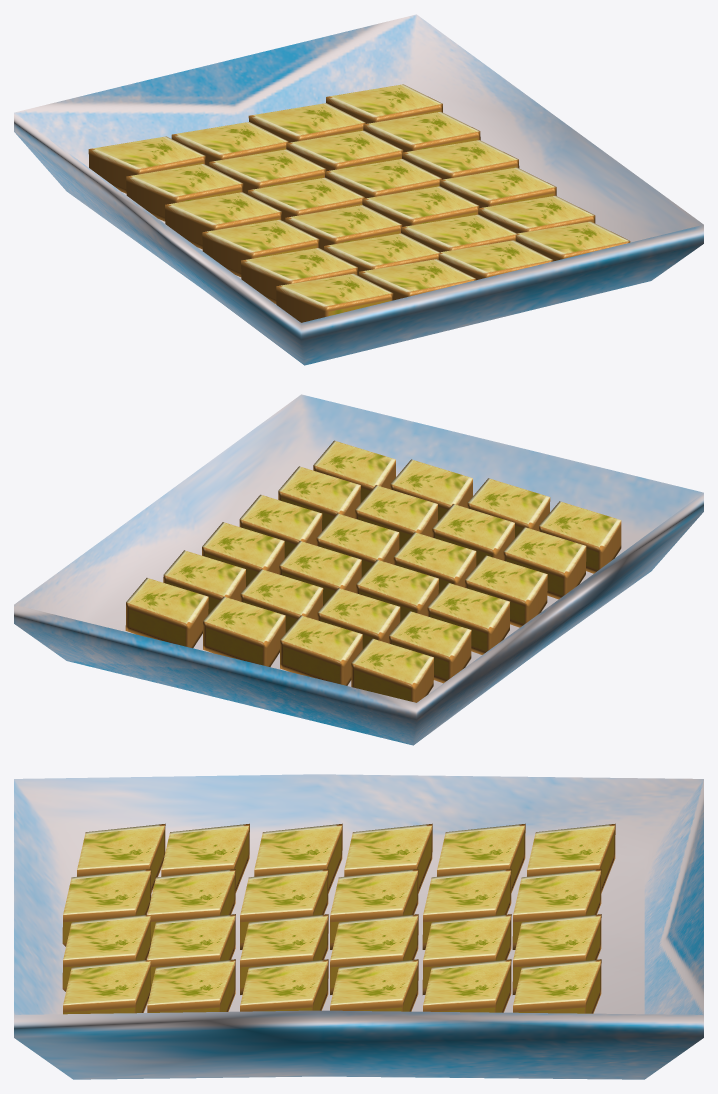
File: baklava.fbx
3 views of the same model, one above another, from view 1: azimuth 30°, elevation 25°; view 2: azimuth 150°, elevation 25°; view 3: azimuth 270°, elevation 25° (orthographic). The views are drawn at different scales.
Parts seen in each view (by area): view 1: pCube8; view 2: pCube8; view 3: pCube8.
Boxes of the visible parts, x1,y1,x2,y2 form: pCube8: (14,14,703,365); pCube8: (14,394,703,745); pCube8: (14,774,703,1079).
Bounding box in the file's own units: 4.14 × 0.703 × 5.08.
